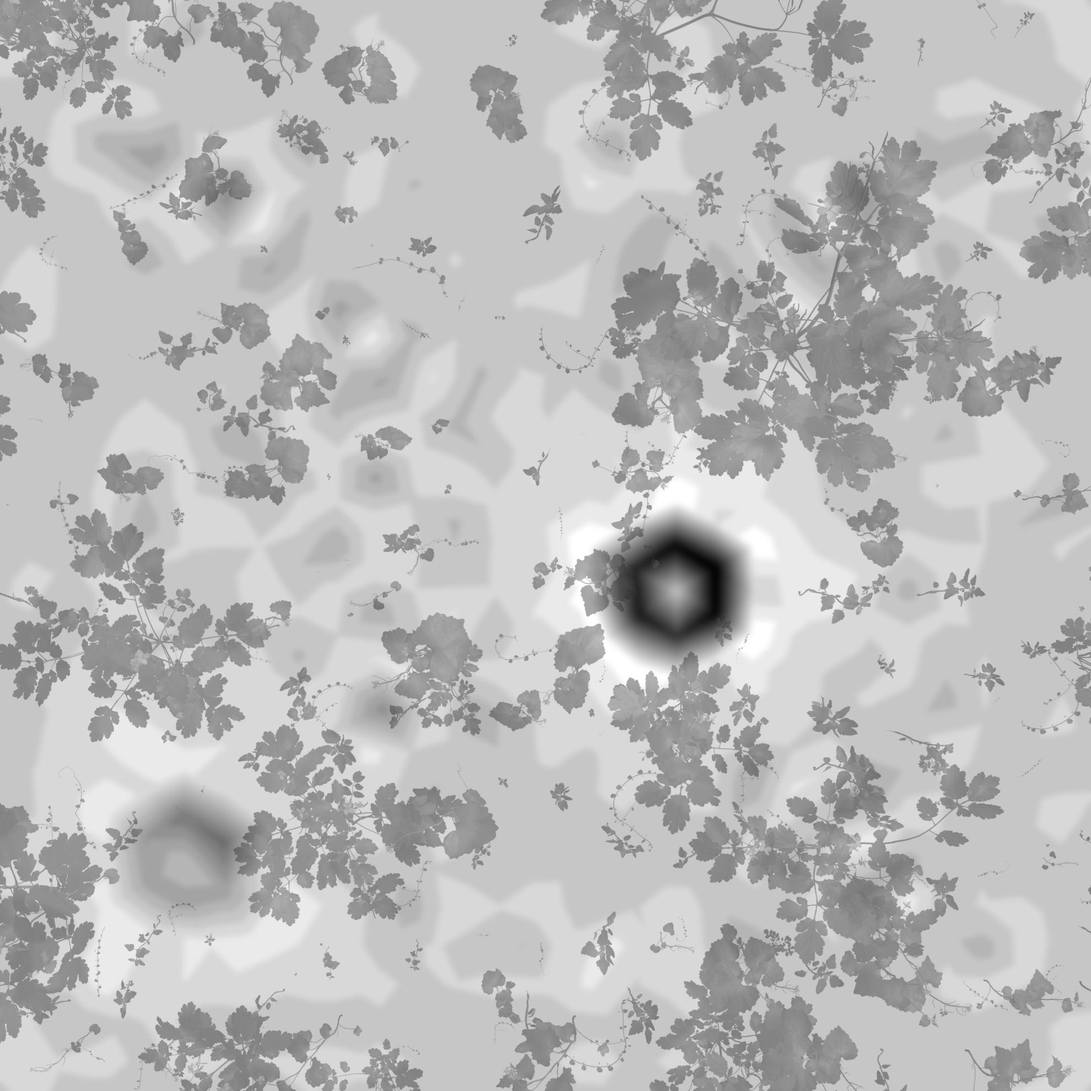landmine: (600, 511, 758, 658), (120, 791, 245, 905)
